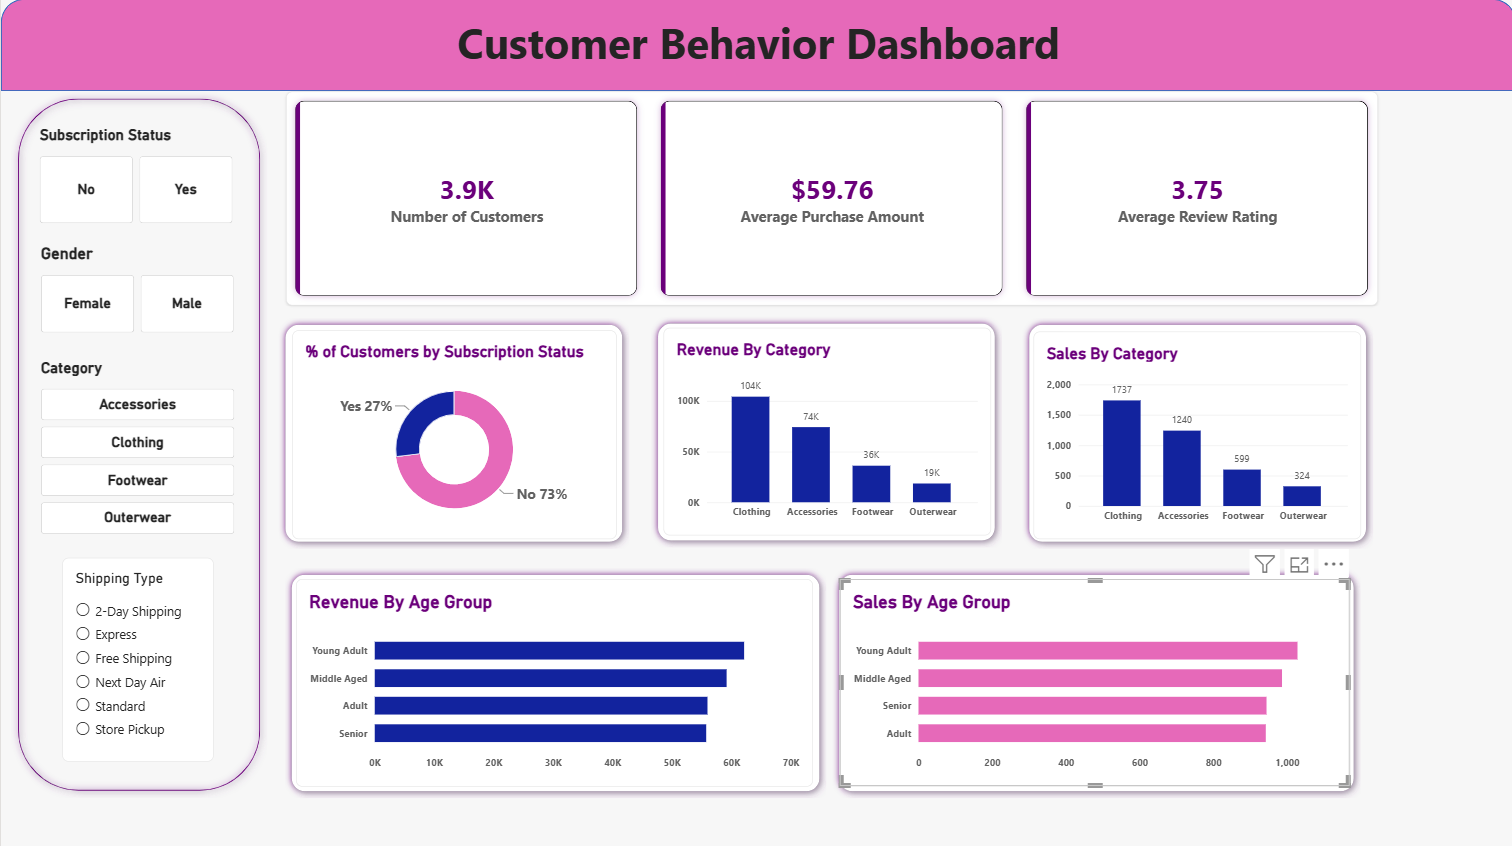

Layout of this report page (visuals, bound fields, positions):
{"tool":"powerbi","page":{"name":"Page 1","canvas":[1920,1080],"ordinal":0},"visuals":[{"type":"cardVisual","title":"Total Revenue","fields":{"Data":["customer_shopping_cleaned.Number of Customers","customer_shopping_cleaned.Average Purchase Amount","customer_shopping_cleaned.Average Review Rating"]},"box":[361,116.9,1383.7,271.3],"z":0},{"type":"shape","box":[0,0,1920,116.7],"z":1000},{"type":"textbox","box":[1230,117,690,255],"z":2000},{"type":"textbox","box":[91.7,18.3,1736.7,78.3],"z":3000},{"type":"shape","box":[352,404.5,444.8,293],"z":4000},{"type":"donutChart","title":"% of Customers by Subscription Status","fields":{"Category":["customer_shopping_cleaned.subscription_status"],"Y":["CountNonNull(customer_shopping_cleaned.customer_id)"]},"box":[369.4,419.5,411.1,265],"z":5000},{"type":"shape","box":[823.4,402.3,444.8,293],"z":6000},{"type":"shape","box":[1293.5,404.6,444.8,293],"z":7000},{"type":"clusteredColumnChart","title":"Revenue By Category","fields":{"Category":["customer_shopping_cleaned.category"],"Y":["Sum(customer_shopping_cleaned.purchase_amount)"]},"box":[839,417.4,415.3,263],"z":8000},{"type":"clusteredColumnChart","title":"Sales By Category","fields":{"Category":["customer_shopping_cleaned.category"],"Y":["CountNonNull(customer_shopping_cleaned.customer_id)"]},"box":[1308.5,421.6,415.3,263],"z":9000},{"type":"shape","box":[12.7,117.2,324.8,895],"z":10000},{"type":"advancedSlicerVisual","title":"Subscription Status","fields":{"Values":["customer_shopping_cleaned.subscription_status"]},"box":[49.1,161.6,245.5,123.6],"z":11000},{"type":"advancedSlicerVisual","title":"Gender","fields":{"Values":["customer_shopping_cleaned.gender"]},"box":[50.7,310.5,245.5,112.5],"z":12000},{"type":"advancedSlicerVisual","title":"Category","fields":{"Values":["customer_shopping_cleaned.category"]},"box":[50.7,456.2,245.5,225],"z":13000},{"type":"listSlicer","fields":{"Values":["customer_shopping_cleaned.shipping_type"]},"box":[77.6,708.1,191.7,258.2],"z":14000},{"type":"shape","box":[359,720,686.6,292.2],"z":15000},{"type":"clusteredBarChart","title":"Revenue By Age Group","fields":{"Category":["customer_shopping_cleaned.age_group"],"Y":["Sum(customer_shopping_cleaned.purchase_amount)"]},"box":[373.6,734.6,655.3,263],"z":16000},{"type":"shape","box":[1053.9,720,669.9,292.2],"z":17000},{"type":"clusteredBarChart","title":"Sales By Age Group","fields":{"Category":["customer_shopping_cleaned.age_group"],"Y":["CountNonNull(customer_shopping_cleaned.customer_id)"]},"box":[1062.3,734.6,647,263],"z":18000}]}

Visuals, with their boxes in screenshot pixels (x1, y1, x2, y2), scaled from the page's 1920x1080 canvas onto the 1512x846 screenshot:
"Total Revenue" cardVisual: (left=284, top=92, right=1374, bottom=304)
shape: (left=0, top=0, right=1511, bottom=91)
textbox: (left=969, top=92, right=1511, bottom=291)
textbox: (left=72, top=14, right=1440, bottom=76)
shape: (left=277, top=317, right=627, bottom=546)
"% of Customers by Subscription Status" donutChart: (left=291, top=329, right=615, bottom=536)
shape: (left=648, top=315, right=999, bottom=545)
shape: (left=1019, top=317, right=1369, bottom=546)
"Revenue By Category" clusteredColumnChart: (left=661, top=327, right=988, bottom=533)
"Sales By Category" clusteredColumnChart: (left=1030, top=330, right=1357, bottom=536)
shape: (left=10, top=92, right=266, bottom=793)
"Subscription Status" advancedSlicerVisual: (left=39, top=127, right=232, bottom=223)
"Gender" advancedSlicerVisual: (left=40, top=243, right=233, bottom=331)
"Category" advancedSlicerVisual: (left=40, top=357, right=233, bottom=534)
listSlicer - customer_shopping_cleaned.shipping_type: (left=61, top=555, right=212, bottom=757)
shape: (left=283, top=564, right=823, bottom=793)
"Revenue By Age Group" clusteredBarChart: (left=294, top=575, right=810, bottom=781)
shape: (left=830, top=564, right=1357, bottom=793)
"Sales By Age Group" clusteredBarChart: (left=837, top=575, right=1346, bottom=781)
